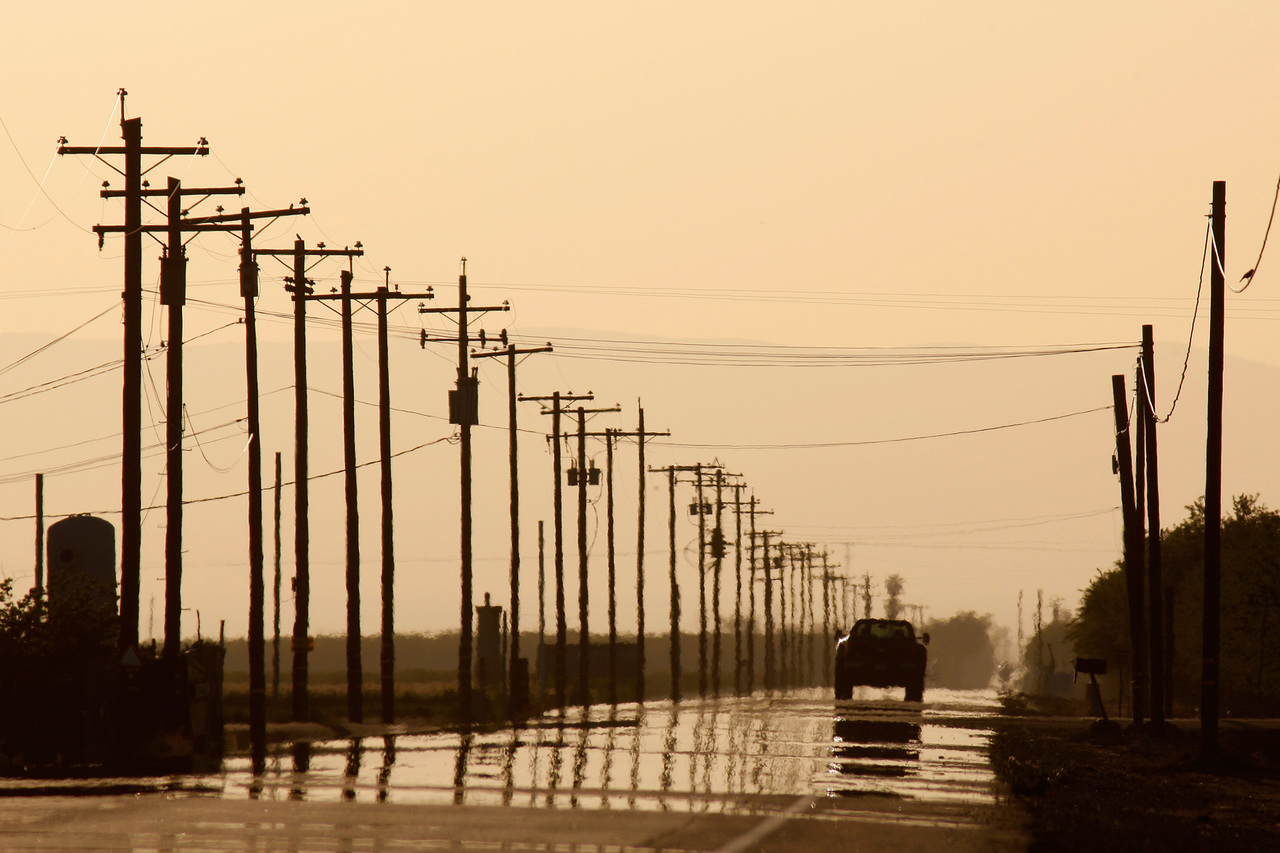car: (830, 614, 929, 698)
